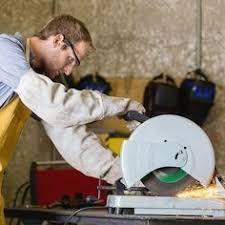gloves: (99, 92, 143, 131)
